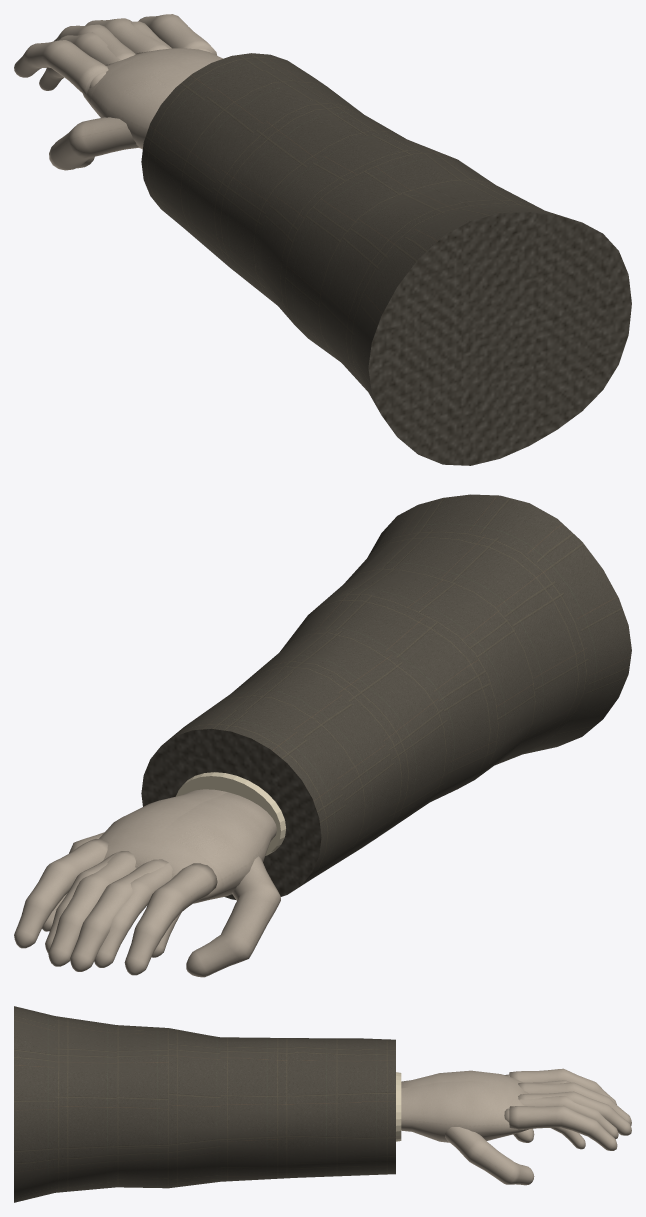
The model's file is CabinetGloves.fbx.
3 renders of one model, top to bottom at view 1: azimuth 30°, elevation 25°; view 2: azimuth 150°, elevation 25°; view 3: azimuth 270°, elevation 25°, orthographic. The views are drawn at different scales.
Visible parts, largest first — view 1: LeftUpper, RightGlove, RightThumbSkin, RightIndexSkin, LeftIndexSkin, LeftGlove, LeftMiddleSkin, RightMiddleSkin, LeftRingSkin; view 2: LeftUpper, RightGlove, LeftGlove, RightThumbSkin, RightIndexSkin, LeftIndexSkin, LeftMiddleSkin, RightMiddleSkin, LeftRingSkin, LeftSleeve, RightRingSkin; view 3: LeftUpper, LeftGlove, LeftIndexSkin, LeftThumbSkin, RightGlove, LeftMiddleSkin, RightIndexSkin, RightMiddleSkin, RightRingSkin, RightLittleSkin.
Part boxes in pixels (x1=…): LeftUpper: x1=141, y1=53, x2=631, y2=465; RightGlove: x1=84, y1=48, x2=190, y2=149; RightThumbSkin: x1=49, y1=117, x2=138, y2=170; RightIndexSkin: x1=14, y1=40, x2=108, y2=94; LeftIndexSkin: x1=138, y1=14, x2=216, y2=55; LeftGlove: x1=83, y1=48, x2=222, y2=106; LeftMiddleSkin: x1=85, y1=18, x2=168, y2=53; RightMiddleSkin: x1=53, y1=24, x2=135, y2=60; LeftRingSkin: x1=59, y1=32, x2=120, y2=64; LeftUpper: x1=141, y1=494, x2=631, y2=899; RightGlove: x1=103, y1=792, x2=276, y2=902; LeftGlove: x1=99, y1=772, x2=285, y2=903; RightThumbSkin: x1=186, y1=856, x2=280, y2=977; RightIndexSkin: x1=124, y1=863, x2=217, y2=975; LeftIndexSkin: x1=14, y1=839, x2=108, y2=948; LeftMiddleSkin: x1=48, y1=851, x2=136, y2=966; RightMiddleSkin: x1=70, y1=859, x2=168, y2=971; LeftRingSkin: x1=94, y1=863, x2=172, y2=967; LeftSleeve: x1=175, y1=761, x2=287, y2=865; RightRingSkin: x1=45, y1=851, x2=120, y2=952; LeftUpper: x1=14, y1=1006, x2=395, y2=1202; LeftGlove: x1=396, y1=1072, x2=529, y2=1142; LeftIndexSkin: x1=509, y1=1105, x2=617, y2=1150; LeftThumbSkin: x1=445, y1=1127, x2=534, y2=1185; RightGlove: x1=401, y1=1070, x2=526, y2=1135; LeftMiddleSkin: x1=518, y1=1091, x2=631, y2=1135; RightIndexSkin: x1=509, y1=1068, x2=616, y2=1104; RightMiddleSkin: x1=518, y1=1082, x2=631, y2=1125; RightRingSkin: x1=519, y1=1096, x2=618, y2=1138; RightLittleSkin: x1=504, y1=1108, x2=585, y2=1149.
Size of the model in its own units: 0.158 by 0.1406 by 0.4515.
